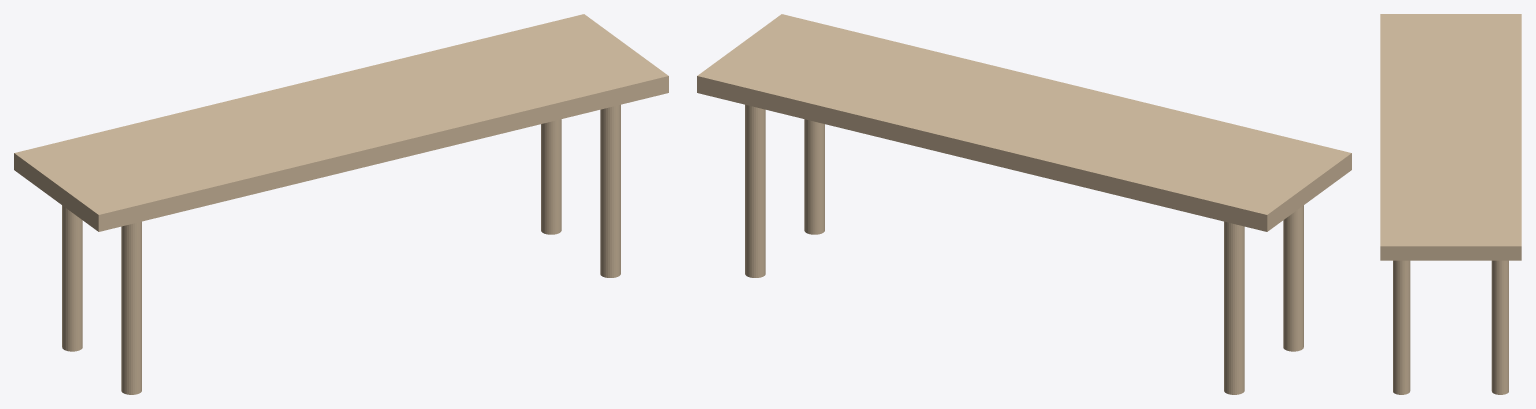
Rendered from DCH-006.glb.
3 views of the same model, side by side, from view 1: azimuth 30°, elevation 25°; view 2: azimuth 150°, elevation 25°; view 3: azimuth 270°, elevation 25° (orthographic). The views are drawn at different scales.
Visible parts, largest first — view 1: Cube, Cylinder, Cylinder.002, Cylinder.001, Cylinder.003; view 2: Cube, Cylinder.001, Cylinder.003, Cylinder, Cylinder.002; view 3: Cube, Cylinder.002, Cylinder.003.
Part boxes in pixels (x1,y1,x2,y2): Cube: [14, 14, 668, 231]; Cylinder: [121, 221, 141, 394]; Cylinder.002: [600, 104, 620, 277]; Cylinder.001: [62, 205, 82, 351]; Cylinder.003: [541, 119, 561, 234]; Cube: [697, 14, 1351, 231]; Cylinder.001: [1224, 221, 1244, 394]; Cylinder.003: [745, 104, 765, 277]; Cylinder: [1283, 205, 1303, 351]; Cylinder.002: [804, 119, 824, 234]; Cube: [1380, 14, 1521, 260]; Cylinder.002: [1393, 260, 1410, 394]; Cylinder.003: [1491, 260, 1508, 394].
Bounding box in the file's own units: 1.4 × 0.46 × 0.36.
